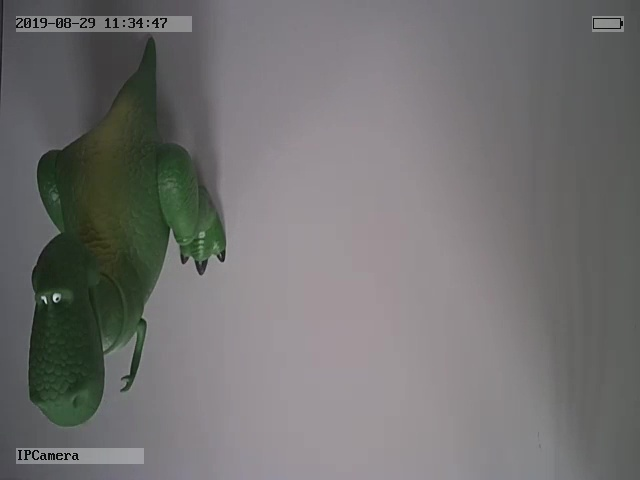rex: (28, 37, 226, 429)
